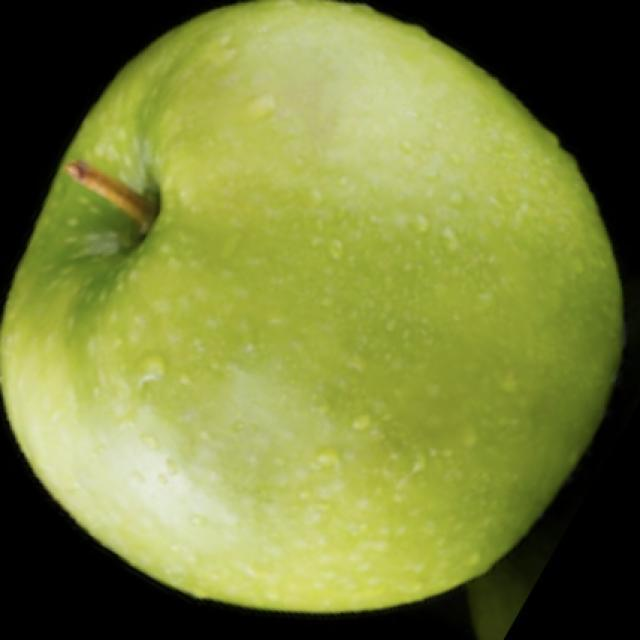Fresh Apple: (63, 25, 585, 583)
